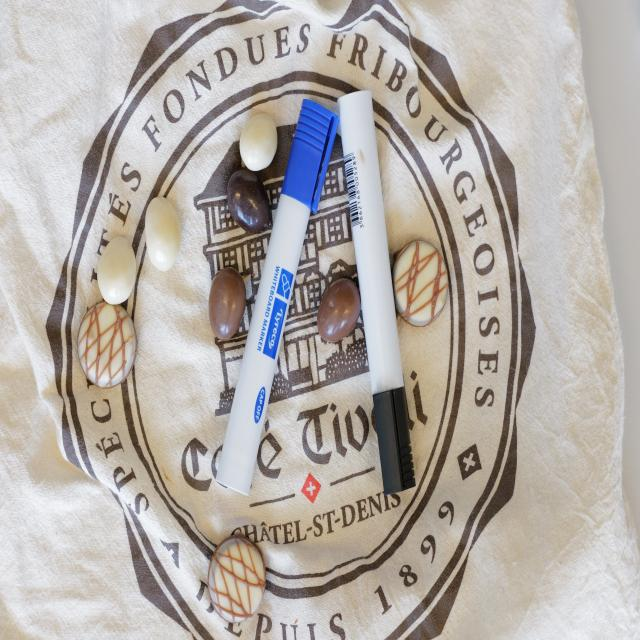Creme_brulee: (79, 301, 139, 386), (208, 536, 266, 623), (396, 238, 450, 324)
Jelly_Black: (228, 171, 273, 236)
Jelly_Milk: (210, 266, 246, 340), (318, 277, 361, 338)
Jelly_White: (146, 194, 184, 273), (99, 235, 137, 305), (240, 107, 278, 172)
